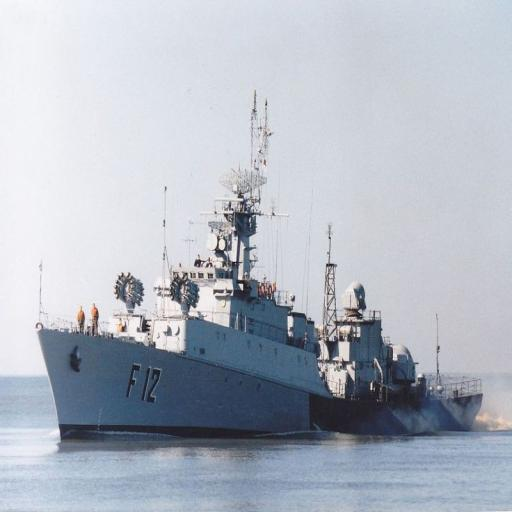Fragata: (32, 83, 488, 451)
